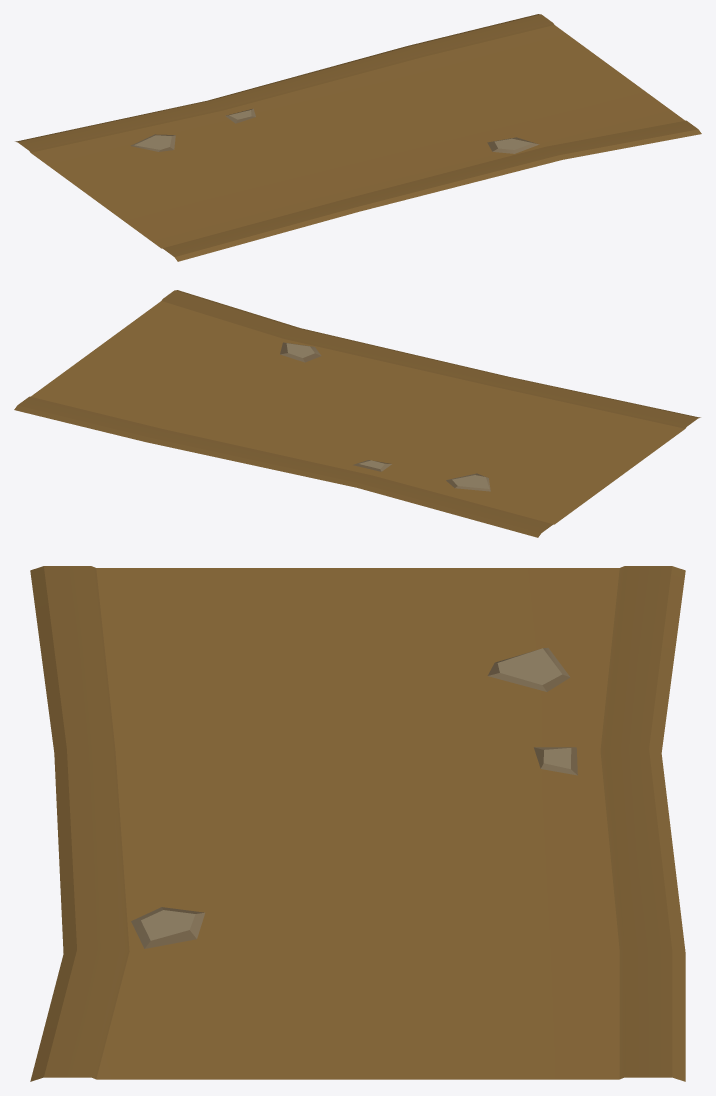
Rendered from Path_Straight_04.gltf.
3 views of the same model, one above another, from view 1: azimuth 30°, elevation 25°; view 2: azimuth 150°, elevation 25°; view 3: azimuth 270°, elevation 25° (orthographic). The views are drawn at different scales.
Visible parts, largest first — view 1: SF_Env_Path_Straight_05; view 2: SF_Env_Path_Straight_05; view 3: SF_Env_Path_Straight_05.
Part boxes in pixels (left/top/right/bottom): SF_Env_Path_Straight_05: left=15, top=14, right=701, bottom=261; SF_Env_Path_Straight_05: left=14, top=290, right=700, bottom=537; SF_Env_Path_Straight_05: left=30, top=566, right=685, bottom=1081.
Bounding box in the file's own units: 0.1 × 0.000509 × 0.0542.
1 material, 1 textured.
